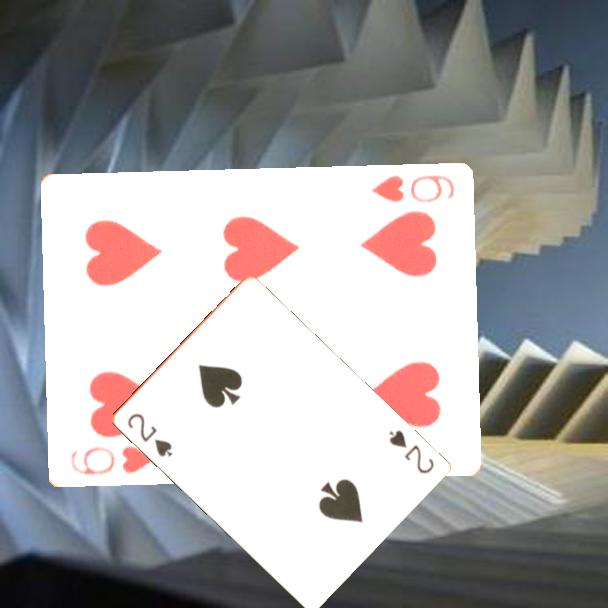h06: (66, 443, 156, 478), (368, 172, 457, 207)
s02: (384, 426, 437, 477), (123, 409, 175, 460)
